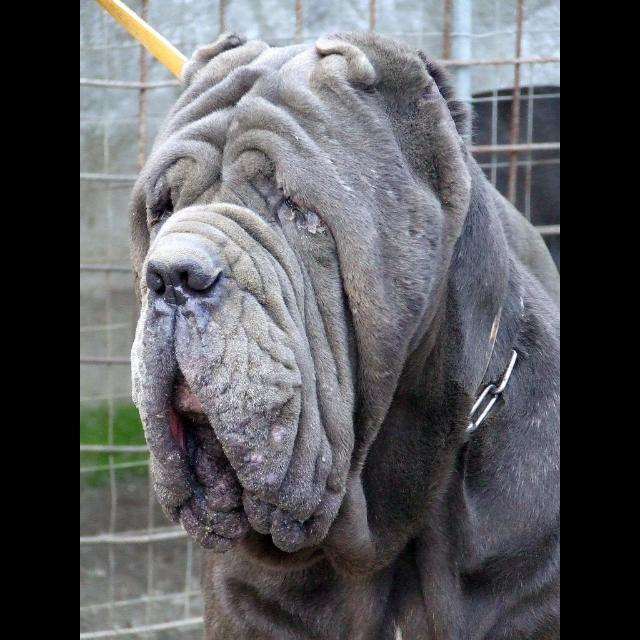mastino_napoletano: (127, 29, 559, 639)
